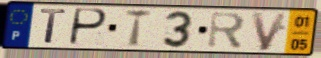3: (162, 10, 194, 50)
P: (66, 7, 109, 48)
R: (206, 11, 248, 52)
T: (124, 8, 154, 49), (39, 8, 69, 46)
V: (249, 11, 290, 52)
